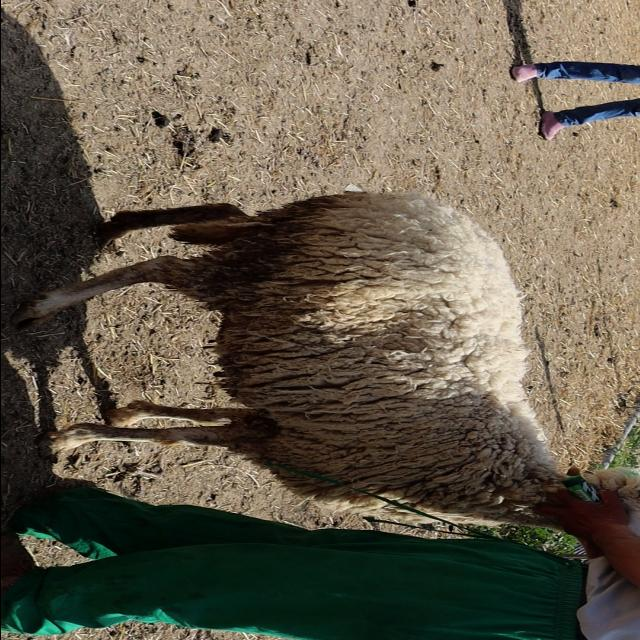Score_4: (12, 191, 565, 529)
